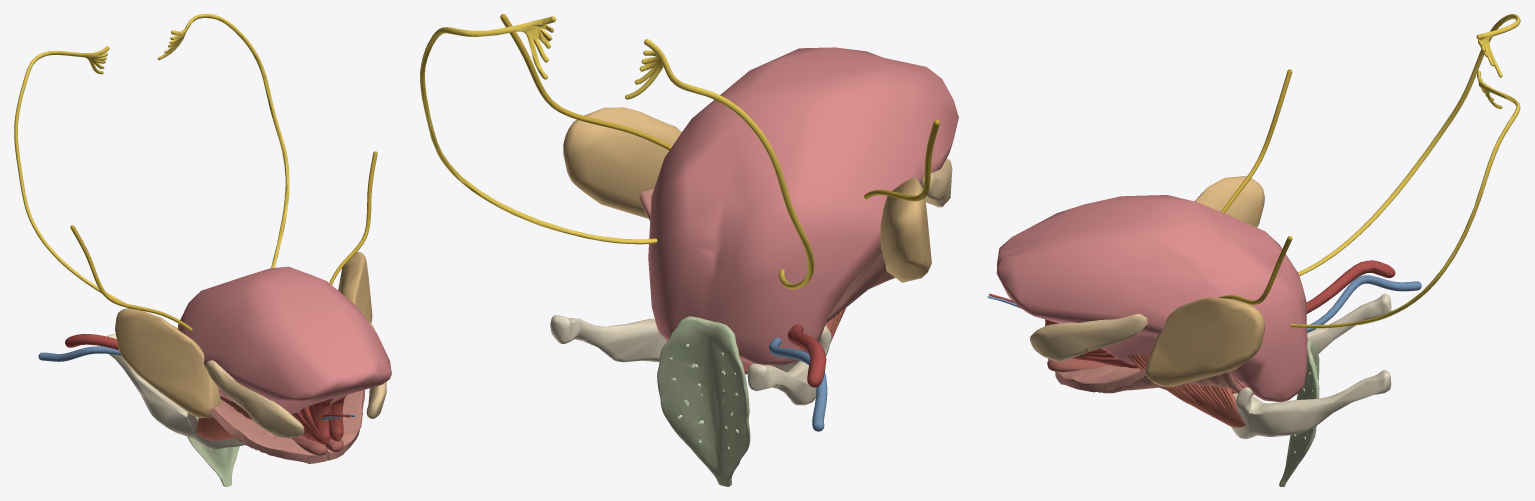
Rendered from tongue.glb.
3 views of the same model, side by side, from view 1: azimuth 30°, elevation 25°; view 2: azimuth 150°, elevation 25°; view 3: azimuth 270°, elevation 25° (orthographic). The views are drawn at different scales.
Parts seen in each view (by area): view 1: tongue, submandibular-glands, hypoglossal-nerves, mylohyoid, sublingual-glands, hyoid-bone, genioglossus, lingual-nerves, epiglottis, hyoglossus, lingual-veins, lingual-artery (+1 smaller); view 2: tongue, submandibular-glands, epiglottis, hypoglossal-nerves, hyoid-bone, lingual-nerves, mylohyoid, lingual-artery, lingual-veins, sublingual-glands; view 3: tongue, submandibular-glands, hyoid-bone, hypoglossal-nerves, sublingual-glands, mylohyoid, hyoglossus, epiglottis, lingual-nerves, lingual-artery, lingual-veins, genioglossus (+1 smaller).
Part boxes in pixels (x1,y1,x2,y2): tongue: (178, 266, 391, 413); submandibular-glands: (115, 252, 372, 418); hypoglossal-nerves: (14, 14, 289, 328); mylohyoid: (209, 390, 364, 463); sublingual-glands: (205, 322, 386, 438); hyoid-bone: (107, 334, 245, 449); genioglossus: (291, 396, 345, 444); lingual-nerves: (70, 151, 377, 331); epiglottis: (187, 436, 239, 486); hyoglossus: (196, 396, 251, 440); lingual-veins: (38, 346, 355, 441); lingual-artery: (65, 334, 350, 439); tongue: (648, 47, 958, 365); submandibular-glands: (563, 107, 931, 282); epiglottis: (657, 316, 750, 486); hypoglossal-nerves: (420, 16, 814, 289); hyoid-bone: (550, 315, 831, 405); lingual-nerves: (500, 14, 939, 201); mylohyoid: (639, 189, 895, 322); lingual-artery: (787, 324, 826, 387); lingual-veins: (769, 337, 827, 431); sublingual-glands: (920, 158, 952, 207); tongue: (996, 195, 1307, 401); submandibular-glands: (1145, 176, 1264, 387); hyoid-bone: (1231, 293, 1391, 438); hypoglossal-nerves: (1290, 14, 1520, 328); sublingual-glands: (1030, 314, 1147, 361); mylohyoid: (1055, 365, 1242, 393); hyoglossus: (1127, 354, 1245, 427); epiglottis: (1279, 339, 1319, 486); lingual-nerves: (1218, 69, 1292, 304); lingual-artery: (989, 260, 1395, 313); lingual-veins: (987, 275, 1421, 332); genioglossus: (1045, 319, 1244, 393).
Bounding box in the file's own units: 2.6 × 3.11 × 3.47.
